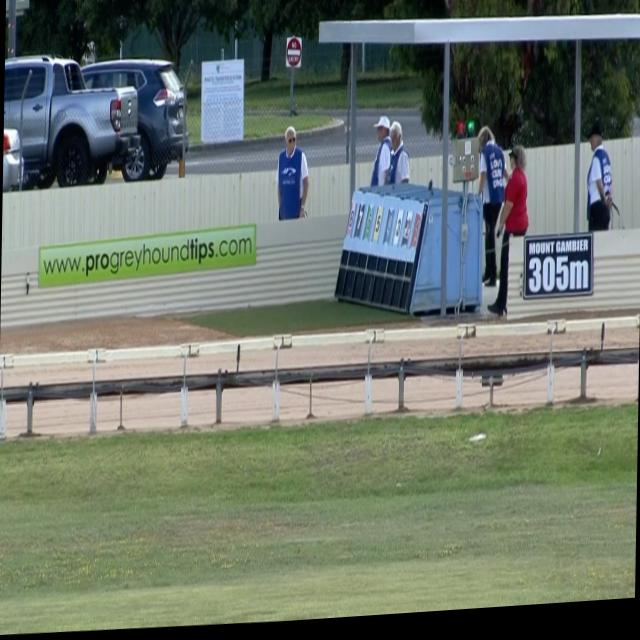rail: (0, 357, 639, 403)
